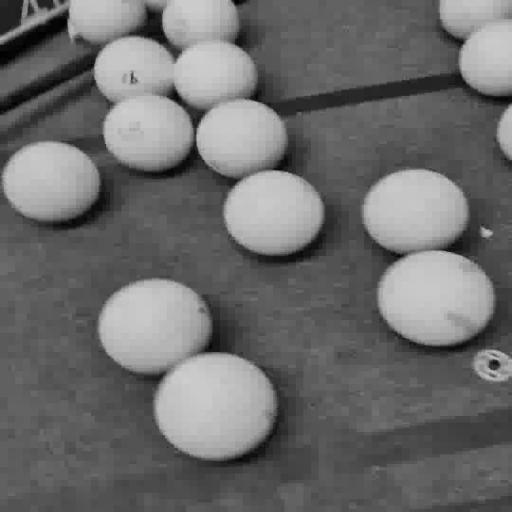fuel: (154, 353, 278, 461), (377, 251, 495, 346), (98, 279, 212, 374), (362, 169, 469, 254), (223, 170, 325, 256), (2, 142, 100, 222), (196, 99, 288, 179), (103, 95, 194, 172), (175, 41, 257, 111), (94, 36, 174, 103), (459, 19, 511, 96), (497, 104, 511, 159)
